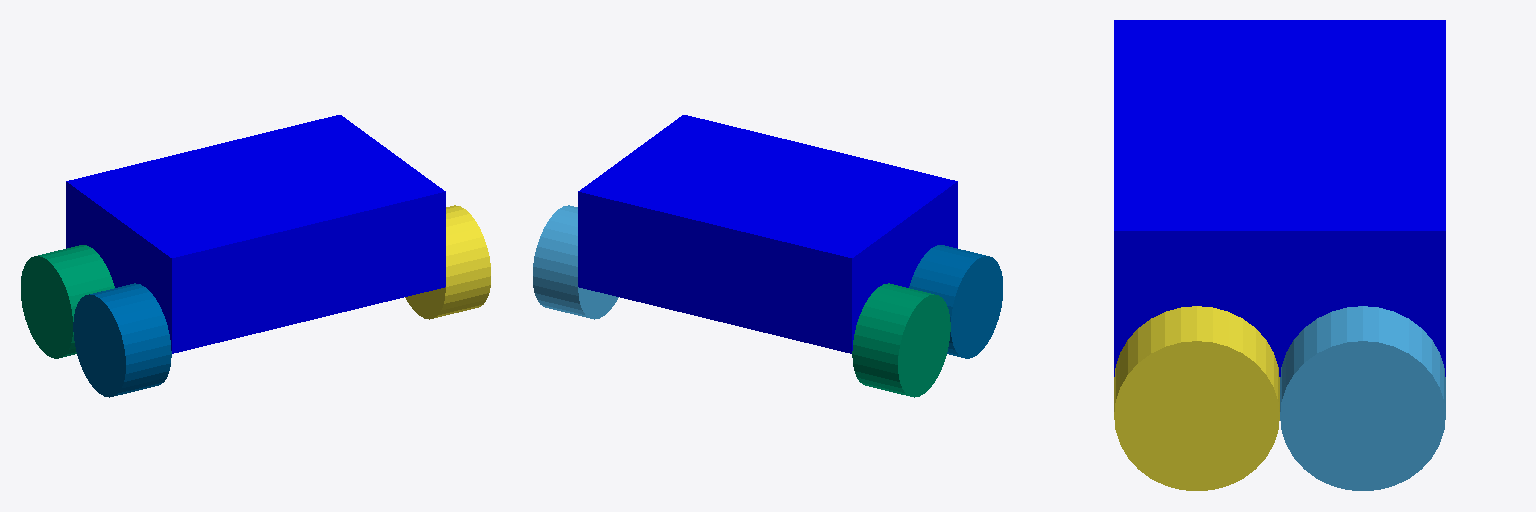
robot.urdf — little_car:
<?xml version="1.0" ?>
<robot name = "little_car">
	<link name = "base_link">
	<!-- 在此处搭一个小车模型，
			重心离地0.05,
			视图为一个0.3×0.2×0.1的蓝色长方体，
			碰撞箱为0.21×0.3×0.11
			质量为10 -->
		<visual>
			<geometry>
				<box size="0.3 0.2 0.1"/>
			</geometry>
			<origin xyz="0 0 0.05" rpy="0 0 0"/>
			<material name="blue">
				<color rgba="0 0 1 1"/>
			</material>
		</visual>
		<collision>
			<geometry>
				<box size="0.21 0.3 0.11"/>
			</geometry>
		</collision>
		<inertial>
			<mass value="10"/>
			<inertia ixx="0.3" ixy="0" ixz="0" iyy="0.5" iyz="0" izz="0.7"/>
		</inertial>
	</link>

	<!-- front wheel -->
	<link name="wheel_1" > 
		
		<!-- 在此处搭一个轮子，
			视图为一个0.05长，0.05半径的圆柱体，
			碰撞箱同上
			质量为10 -->
		<visual>
			<geometry>
				<cylinder length="0.05" radius="0.05"/>
			</geometry>
		</visual>
		<collision>
			<geometry>
				<cylinder length="0.05" radius="0.05"/>
			</geometry>
		</collision>
		<inertial>
			<mass value="10"/>
			<inertia ixx="0.4" ixy="0" ixz="0" iyy="0.4" iyz="0" izz="0.2"/>
		</inertial>
	</link>

	<link name="wheel_2" >
		<!--   同上一个轮子  -->
		<visual>
			<geometry>
				<cylinder length="0.05" radius="0.05"/>
			</geometry>
		</visual>
		<collision>
			<geometry>
				<cylinder length="0.05" radius="0.05"/>
			</geometry>
		</collision>
		<inertial>
			<mass value="10"/>
			<inertia ixx="0.4" ixy="0" ixz="0" iyy="0.4" iyz="0" izz="0.2"/>
		</inertial>
	</link>


	<link name="wheel_3" >
		<!--   同上一个轮子  -->
			<visual>
			<geometry>
				<cylinder length="0.05" radius="0.05"/>
			</geometry>
		</visual>
		<collision>
			<geometry>
				<cylinder length="0.05" radius="0.05"/>
			</geometry>
		</collision>
		<inertial>
			<mass value="10"/>
			<inertia ixx="0.4" ixy="0" ixz="0" iyy="0.4" iyz="0" izz="0.2"/>
		</inertial>
	</link>


	<link name="wheel_4" >
		<!--   同上一个轮子  -->
		<visual>
			<geometry>
				<cylinder length="0.05" radius="0.05"/>
			</geometry>
		</visual>
		<collision>
			<geometry>
				<cylinder length="0.05" radius="0.05"/>
			</geometry>
		</collision>
		<inertial>
			<mass value="10"/>
			<inertia ixx="0.4" ixy="0" ixz="0" iyy="0.4" iyz="0" izz="0.2"/>
		</inertial>
	</link>

	<joint name="base_to_wheel_1" type="continuous">
		<!--在此处填入四个性质，下面三个轮子同理，注意分别链接在不同位置
		<parent               >
		<child                >
		<axis                 >
		<origin               >

		tips:转轴定为z轴（初始圆柱体正立放置）
			origin的xyz偏移按照上面的箱子计算得出，rpy绕y轴转90度（urdf中为弧度制）
			-->
		<parent link="base_link"/>
		<child link="wheel_1"/>
		<origin xyz="0.175 0.05 0" rpy="0 1.57 0"/>
		<axis xyz="0 0 1"/>
		<joint_properties damping="20.0" friction="20.0"/>
	</joint>

	<joint name="base_to_wheel_2" type="continuous">
		<parent link="base_link"/>
		<child link="wheel_2"/>
		<origin xyz="-0.175 0.05 0" rpy="0 1.57 0"/>
		<axis xyz="0 0 1"/>
		<joint_properties damping="20.0" friction="20.0"/>
	</joint>


	<joint name="base_to_wheel_3" type="continuous">
		<parent link="base_link"/>
		<child link="wheel_3"/>
		<origin xyz="0.175 -0.05 0" rpy="0 1.57 0"/>
		<axis xyz="0 0 1"/>
		<joint_properties damping="20.0" friction="20.0"/>
	</joint>


	<joint name="base_to_wheel_4" type="continuous">
		<parent link="base_link"/>
		<child link="wheel_4"/>
		<origin xyz="-0.175 -0.05 0" rpy="0 1.57 0"/>
		<axis xyz="0 0 1"/>
		<joint_properties damping="20.0" friction="20.0"/>
	</joint>
</robot>

--- What the picture shows (computed from the rendered views, not written in the file) ---
3 views of the same robot in one strip: view 1: azimuth 30°, elevation 25°; view 2: azimuth 150°, elevation 25°; view 3: azimuth 270°, elevation 25° (orthographic).
Robot: little_car — 5 links, 4 joints (4 continuous); root link base_link; default pose: every joint at zero.
Visible links, largest first — view 1: base_link, wheel_4, wheel_2, wheel_3; view 2: base_link, wheel_2, wheel_4, wheel_1; view 3: base_link, wheel_1, wheel_3.
Boxes of the visible links, left/top/right/bottom form: base_link: left=66, top=115, right=445, bottom=353; wheel_4: left=73, top=283, right=171, bottom=397; wheel_2: left=21, top=245, right=114, bottom=358; wheel_3: left=405, top=205, right=490, bottom=319; base_link: left=578, top=115, right=957, bottom=353; wheel_2: left=852, top=283, right=950, bottom=397; wheel_4: left=909, top=245, right=1002, bottom=358; wheel_1: left=533, top=205, right=618, bottom=319; base_link: left=1114, top=20, right=1445, bottom=376; wheel_1: left=1280, top=306, right=1445, bottom=490; wheel_3: left=1114, top=306, right=1279, bottom=490.
Size in the robot's own frame: 0.4001 by 0.2 by 0.15 metres.
Geometry: primitives only (box / cylinder / sphere), no mesh files.
